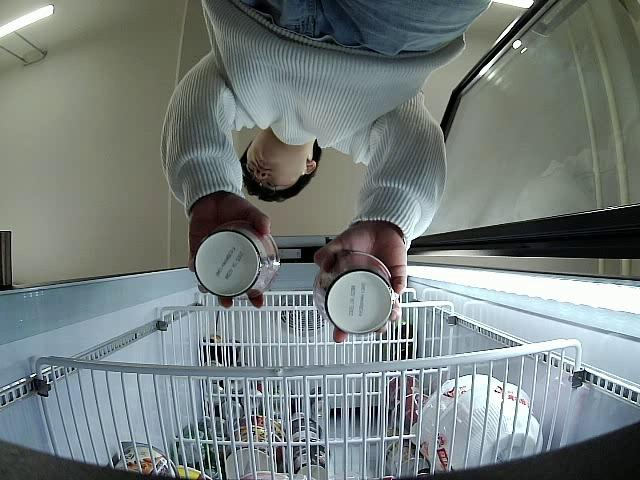00_hand: (311, 222, 408, 341), (191, 202, 271, 309)
02_shinRamen_S: (314, 254, 394, 335), (197, 224, 281, 299)
